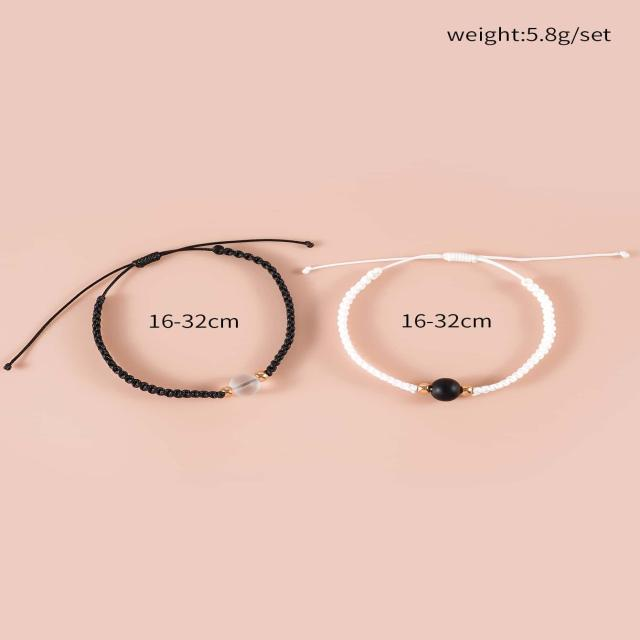bracelet: (0, 135, 326, 522), (315, 199, 640, 485)
